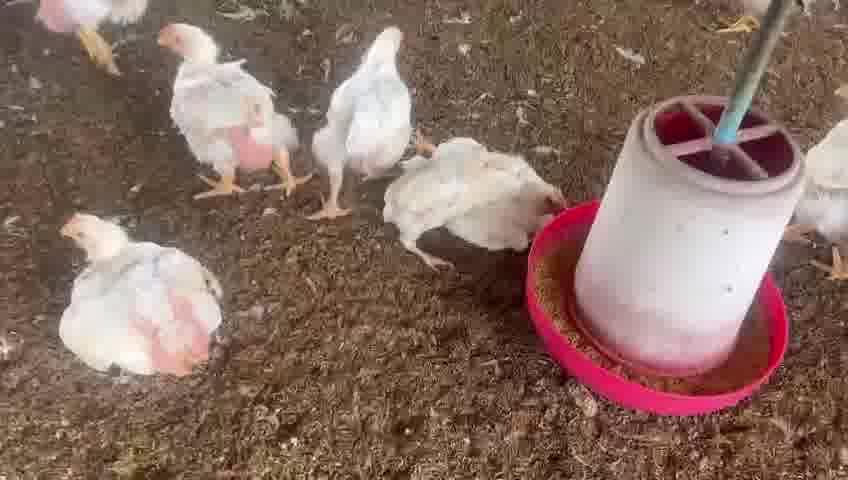AbNormal: (394, 120, 568, 251)
Normal: (46, 199, 224, 370), (153, 15, 306, 201), (295, 12, 408, 240)
